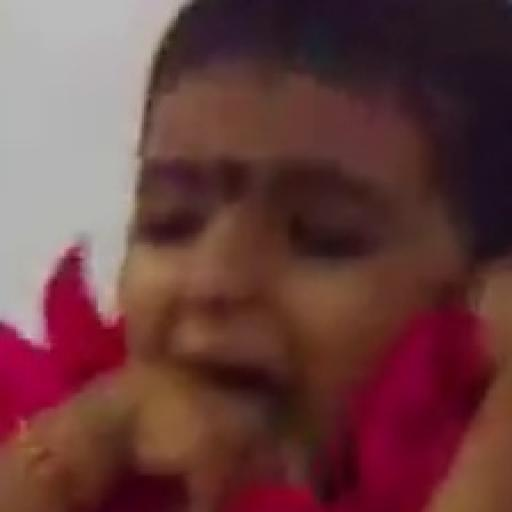Autism: (84, 29, 512, 509)
